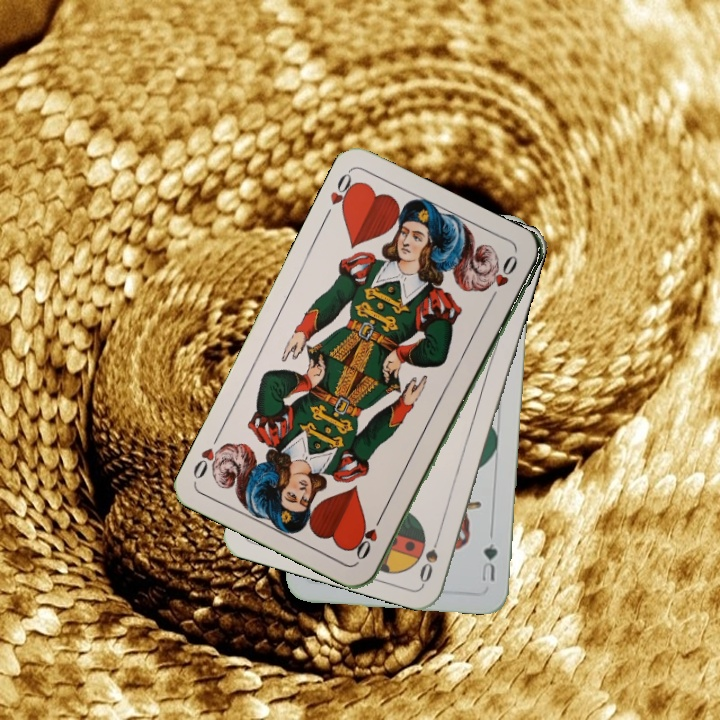GU: (477, 539, 500, 584)
HO: (320, 168, 362, 223), (352, 509, 387, 563)
SO: (415, 528, 444, 586)
